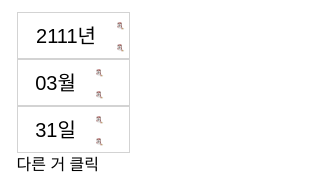
인풋끼리 시간 연동 테스트 › 월을 직접 수정해 2월로 바꾸고 다른 곳 클릭하면 31일이 28일로 바뀌어야 함
Expected: the 3rd field showing "31일" is shown, [18,107,94,152]
Replace the text in the field with test id "startmonth_input" with "02": (56, 82) [18,60,94,105]
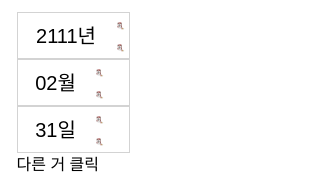
Click the text "다른 거 클릭": (58, 164) [16,156,99,173]
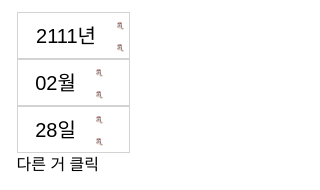
Now the 3rd field showing "28일" is shown, box [18,107,94,152]
